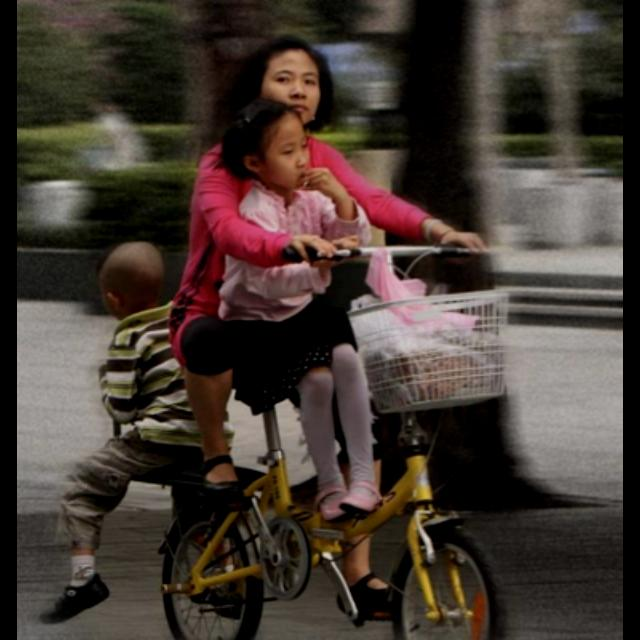Without Helmet: (248, 33, 342, 131)
